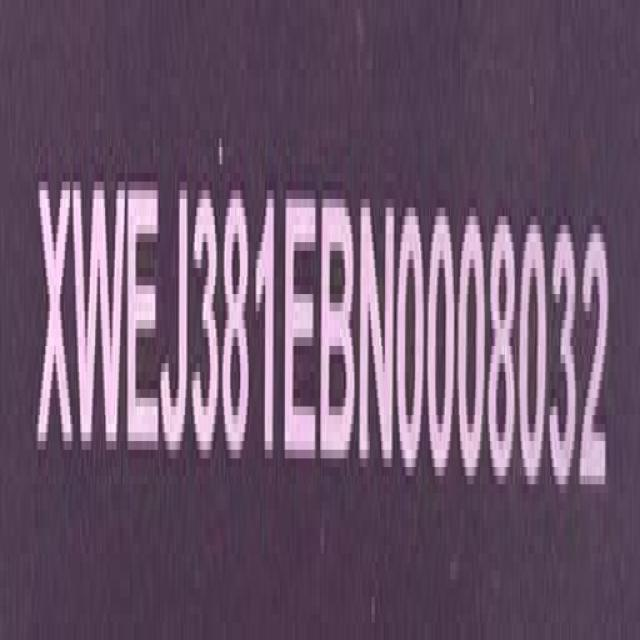0: (428, 207, 458, 482), (398, 200, 427, 480), (456, 211, 485, 484), (518, 220, 546, 490)
1: (255, 188, 282, 471)
2: (582, 225, 612, 499)
3: (193, 188, 224, 467), (550, 222, 580, 493)
8: (221, 189, 252, 467), (490, 216, 518, 489)
B: (321, 192, 356, 475)
E: (128, 176, 165, 467), (284, 185, 320, 472)
J: (159, 179, 191, 458)
N: (357, 198, 397, 477)
W: (72, 171, 127, 466)
X: (34, 174, 72, 465)
